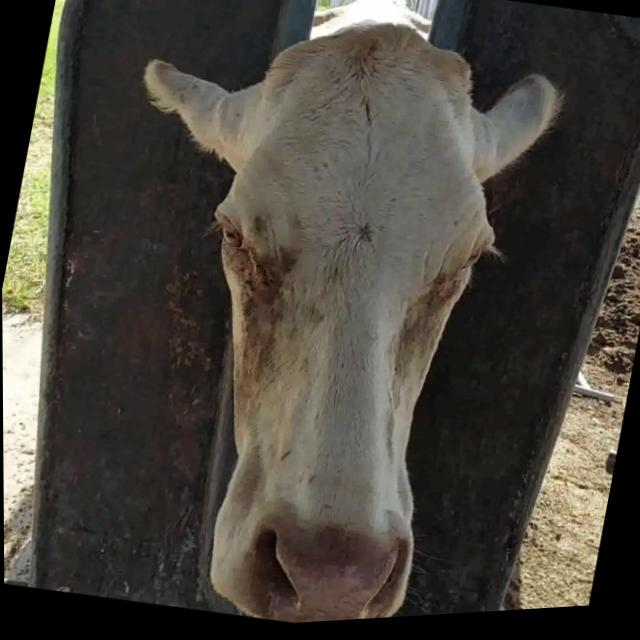cowFace: (139, 0, 538, 634)
